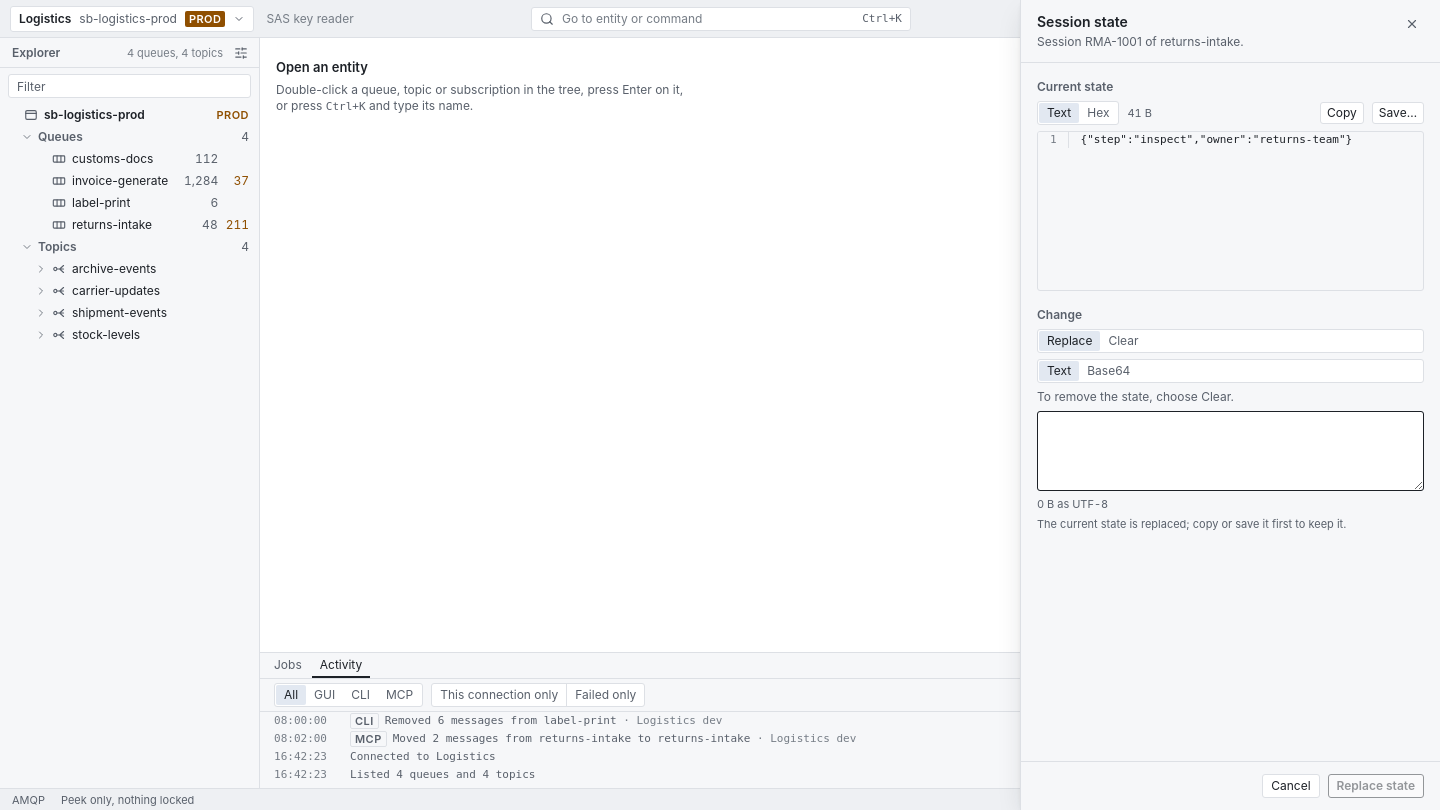
Test: SessionStateSheet › saves the current state to a file before a change
Expected: the text "{\"step\":\"inspect\",\"owner\":\"returns-team\"}" is shown, [1069,132,1368,148]
What coordinates should you click on to do the following:
click the button with aria-label "Save current state…"
I would click on:
 (1398, 113)
Its box is [1372,102,1424,124].
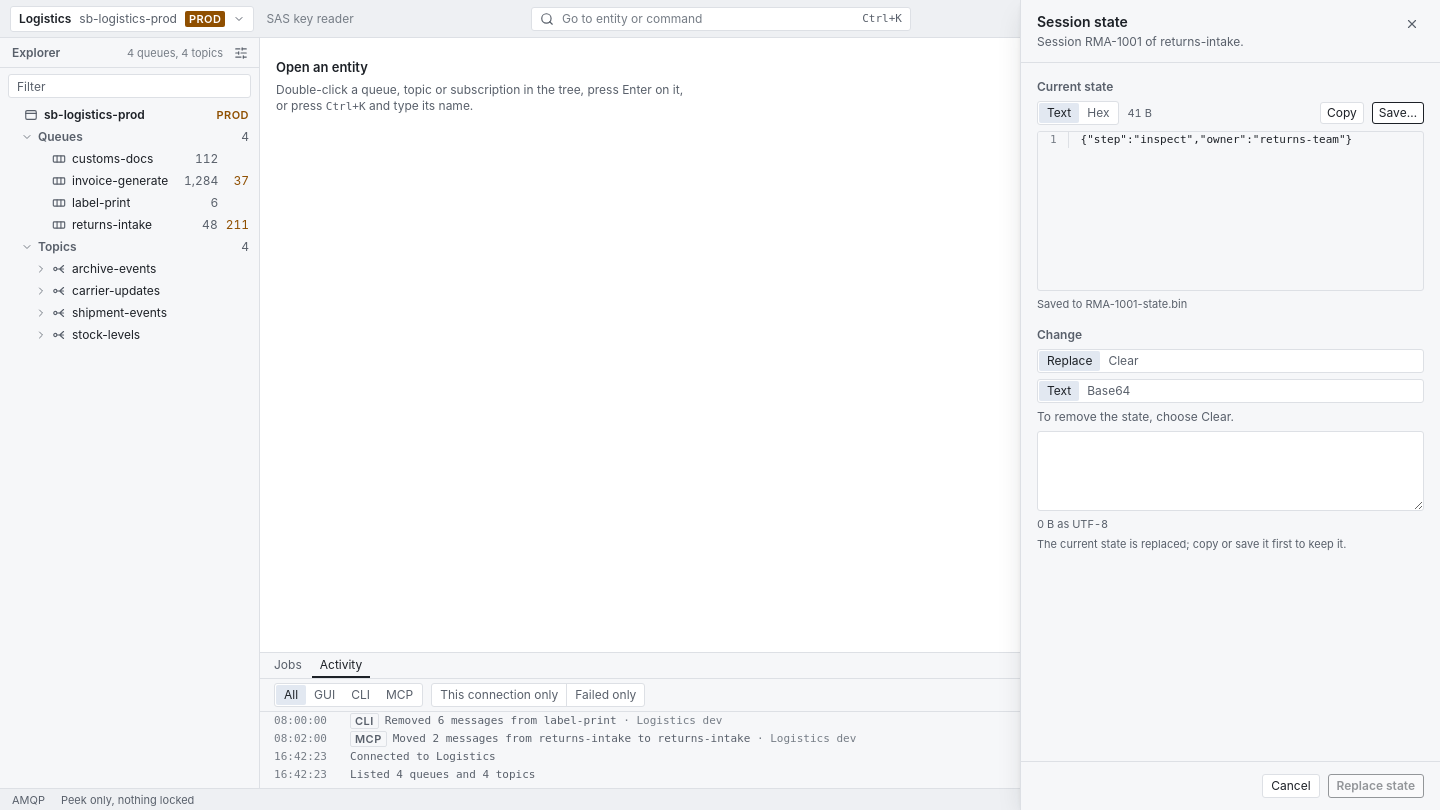
Expected: the text "Saved to RMA-1001-state.bin" is shown, [1037,297,1187,311]
